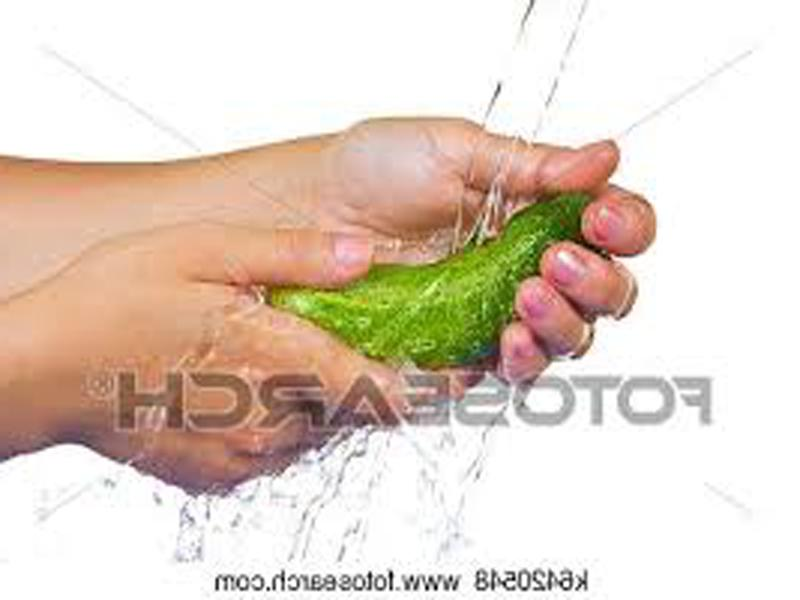Cucumber: (257, 190, 595, 375)
